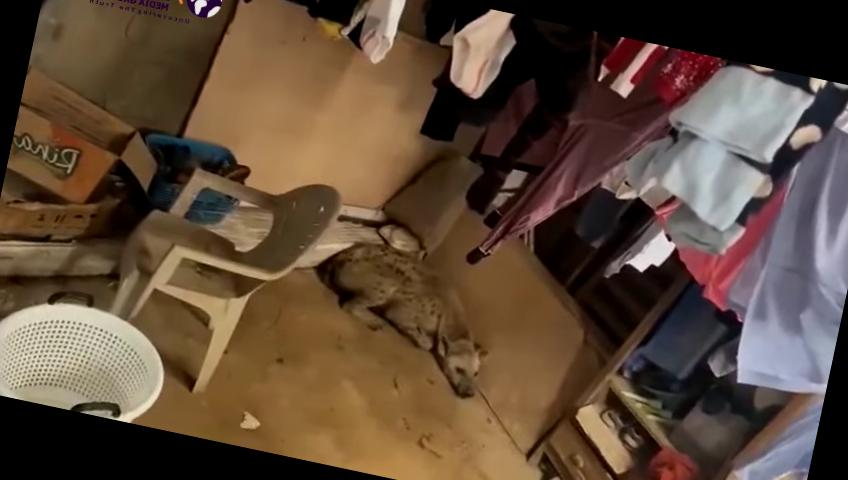hyenas: (301, 228, 515, 406)
